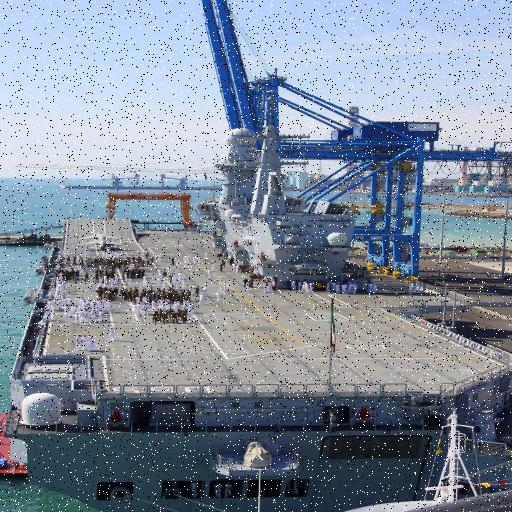Portanaves: (6, 110, 512, 512)
